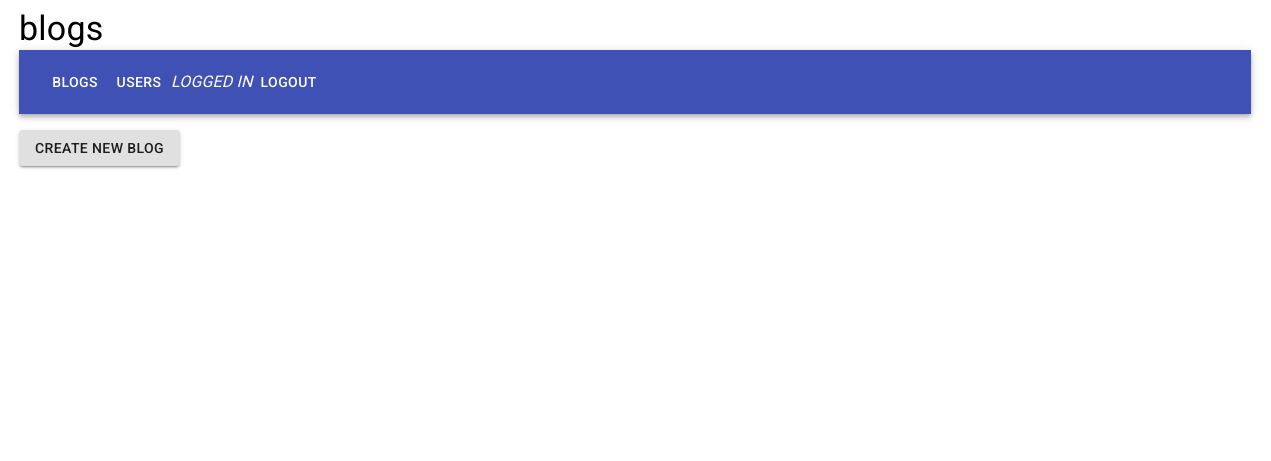
Blog app › When logged in › A blog can be created
Click the button "create new blog": (100,149) [19, 130, 180, 167]
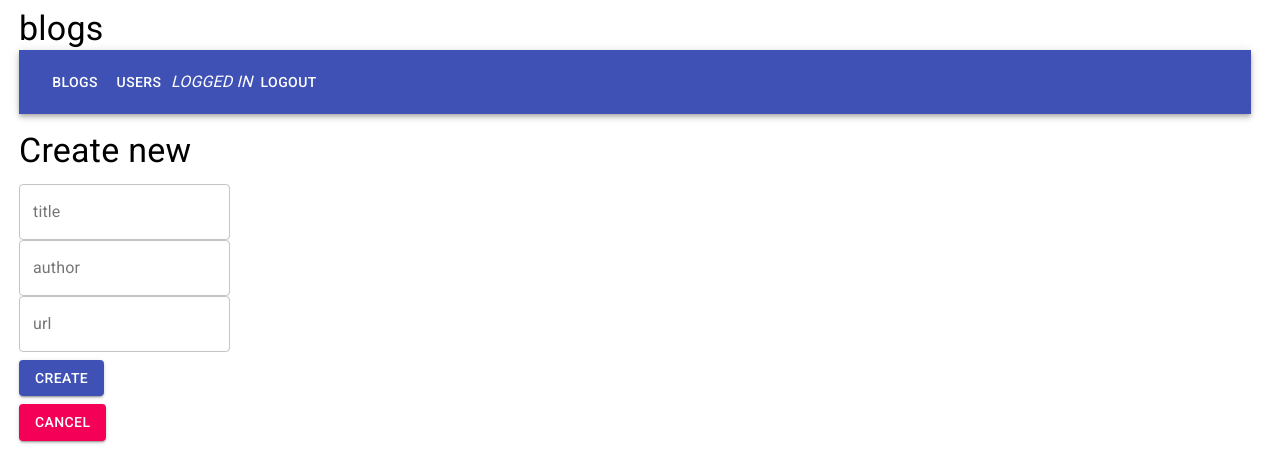
In the field with id "title": (125,212) [19, 184, 230, 240], type "a blog created by cypress"
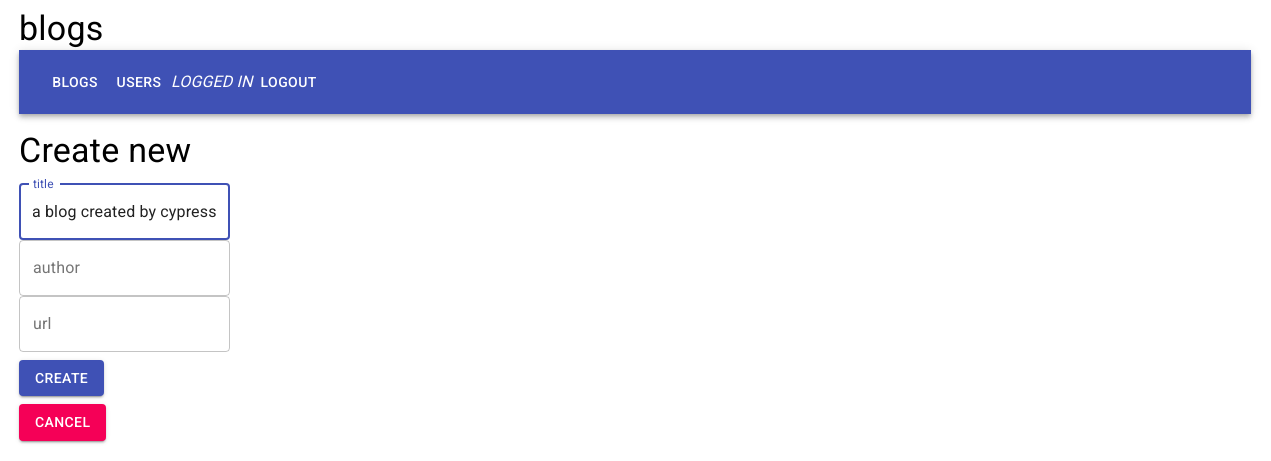
In the field with id "author": (125,268) [19, 240, 230, 296], type "cypress"
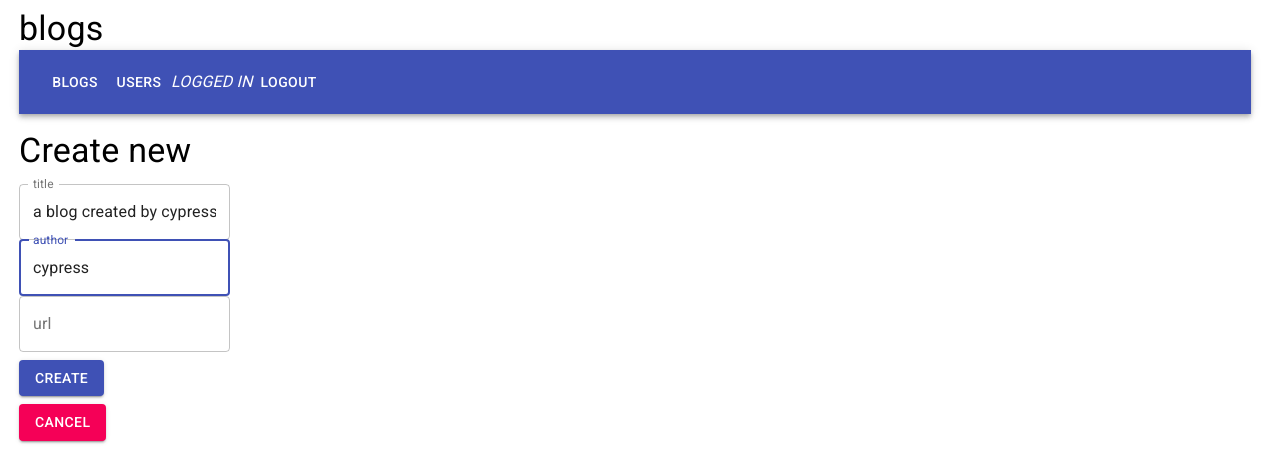
In the field with id "url": (125,324) [19, 296, 230, 352], type "https://docs.cypress.io/"
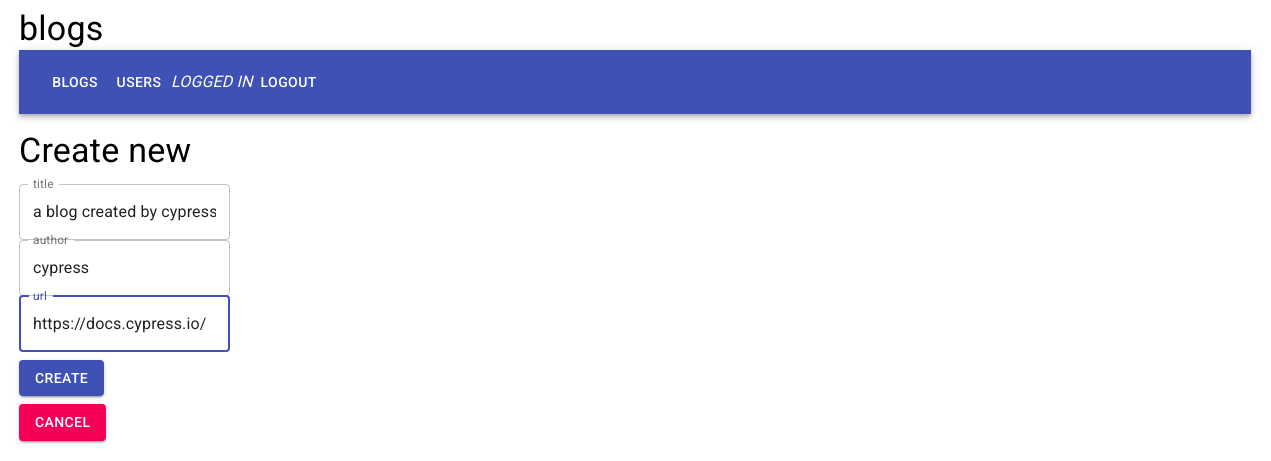
Submit the form, box [19, 184, 1251, 397]
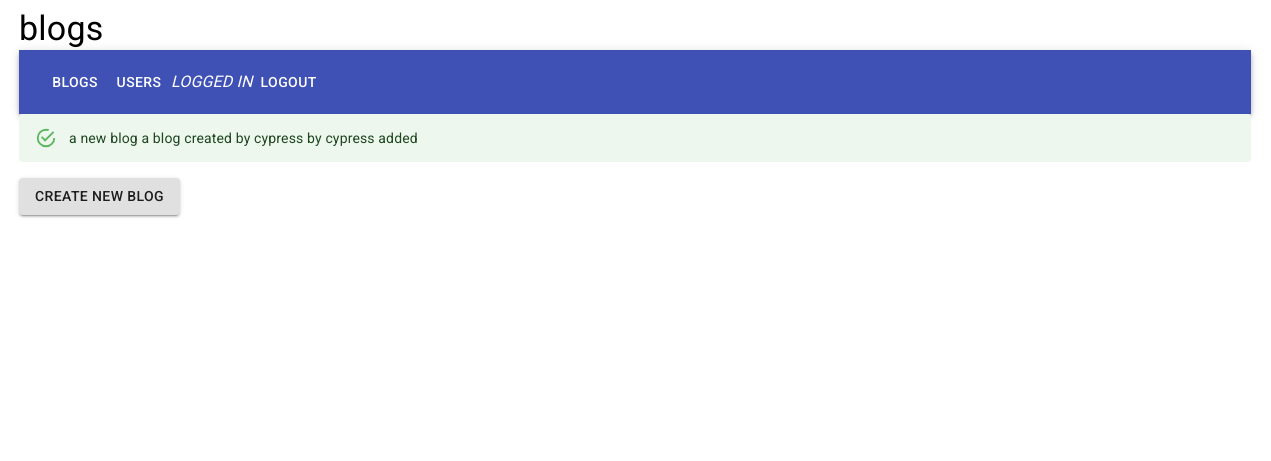
Result: the text "a blog created by cypress" is shown at [69, 130, 418, 146]
